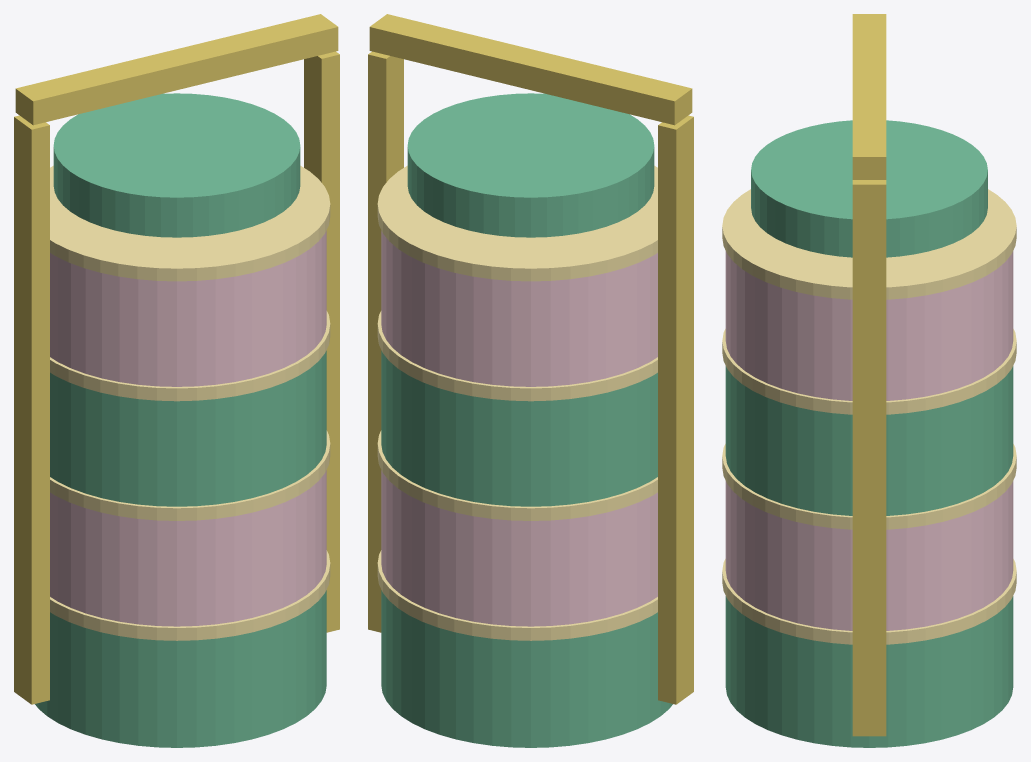
Rendered from tingkat.glb.
3 views of the same model, side by side, from view 1: azimuth 30°, elevation 25°; view 2: azimuth 150°, elevation 25°; view 3: azimuth 270°, elevation 25° (orthographic). The views are drawn at different scales.
Visible parts, largest first — view 1: geometry_8, geometry_0, geometry_2, geometry_4, geometry_6, geometry_9, geometry_7, geometry_11, geometry_10, geometry_5, geometry_3, geometry_1; view 2: geometry_8, geometry_0, geometry_2, geometry_4, geometry_6, geometry_9, geometry_7, geometry_11, geometry_10, geometry_5, geometry_3, geometry_1; view 3: geometry_0, geometry_4, geometry_6, geometry_2, geometry_8, geometry_10, geometry_7, geometry_11, geometry_3, geometry_5, geometry_1.
Boxes of the visible parts, x1=… form: geometry_8: x1=53, y1=93, x2=300, y2=237; geometry_0: x1=35, y1=590, x2=326, y2=747; geometry_2: x1=50, y1=470, x2=326, y2=626; geometry_4: x1=50, y1=350, x2=326, y2=506; geometry_6: x1=50, y1=230, x2=326, y2=386; geometry_9: x1=14, y1=115, x2=49, y2=704; geometry_7: x1=50, y1=165, x2=330, y2=281; geometry_11: x1=15, y1=14, x2=338, y2=125; geometry_10: x1=304, y1=51, x2=339, y2=632; geometry_5: x1=50, y1=311, x2=330, y2=401; geometry_3: x1=50, y1=430, x2=330, y2=520; geometry_1: x1=50, y1=550, x2=330, y2=640; geometry_8: x1=407, y1=93, x2=654, y2=237; geometry_0: x1=381, y1=590, x2=672, y2=747; geometry_2: x1=381, y1=470, x2=657, y2=626; geometry_4: x1=381, y1=350, x2=657, y2=506; geometry_6: x1=381, y1=230, x2=657, y2=386; geometry_9: x1=658, y1=115, x2=693, y2=704; geometry_7: x1=377, y1=165, x2=657, y2=281; geometry_11: x1=369, y1=14, x2=692, y2=125; geometry_10: x1=368, y1=51, x2=403, y2=632; geometry_5: x1=377, y1=311, x2=657, y2=401; geometry_3: x1=377, y1=430, x2=657, y2=520; geometry_1: x1=377, y1=550, x2=657, y2=640; geometry_0: x1=725, y1=596, x2=1013, y2=747; geometry_4: x1=725, y1=366, x2=1013, y2=515; geometry_6: x1=725, y1=251, x2=1013, y2=400; geometry_2: x1=725, y1=481, x2=1013, y2=630; geometry_8: x1=751, y1=120, x2=987, y2=257; geometry_10: x1=852, y1=180, x2=886, y2=736; geometry_7: x1=722, y1=189, x2=1016, y2=299; geometry_11: x1=852, y1=14, x2=886, y2=179; geometry_3: x1=722, y1=444, x2=1016, y2=529; geometry_5: x1=722, y1=329, x2=1016, y2=414; geometry_1: x1=722, y1=559, x2=1016, y2=644.
Bounding box in the file's own units: 0.202 × 0.3925 × 0.174.
